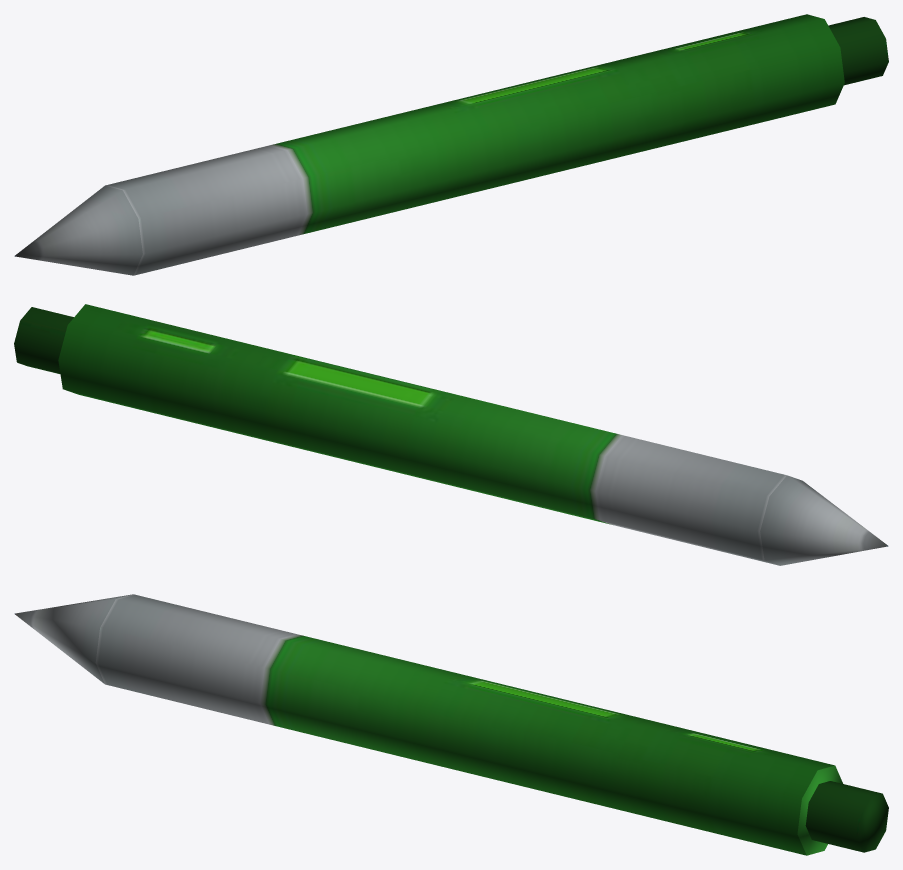
Rendered from pen.fbx.
3 renders of one model, top to bottom at view 1: azimuth 30°, elevation 25°; view 2: azimuth 150°, elevation 25°; view 3: azimuth 330°, elevation 25°, orthographic.
Parts seen in each view (by area): view 1: pen; view 2: pen; view 3: pen.
Part boxes in pixels (x1,y1,x2,y2): pen: (14, 14, 888, 275); pen: (14, 304, 888, 565); pen: (14, 594, 888, 855).
Size of the model in its own units: 3.15 by 0.3001 by 0.3001.
1 material, 1 textured.
